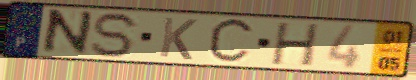4: (325, 23, 367, 72)
C: (205, 16, 257, 67)
H: (269, 21, 323, 69)
K: (157, 15, 200, 62)
N: (37, 7, 96, 57)
S: (89, 11, 143, 60)
